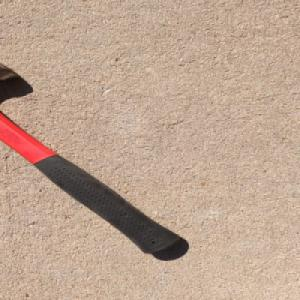Hammer: (0, 58, 186, 254)
